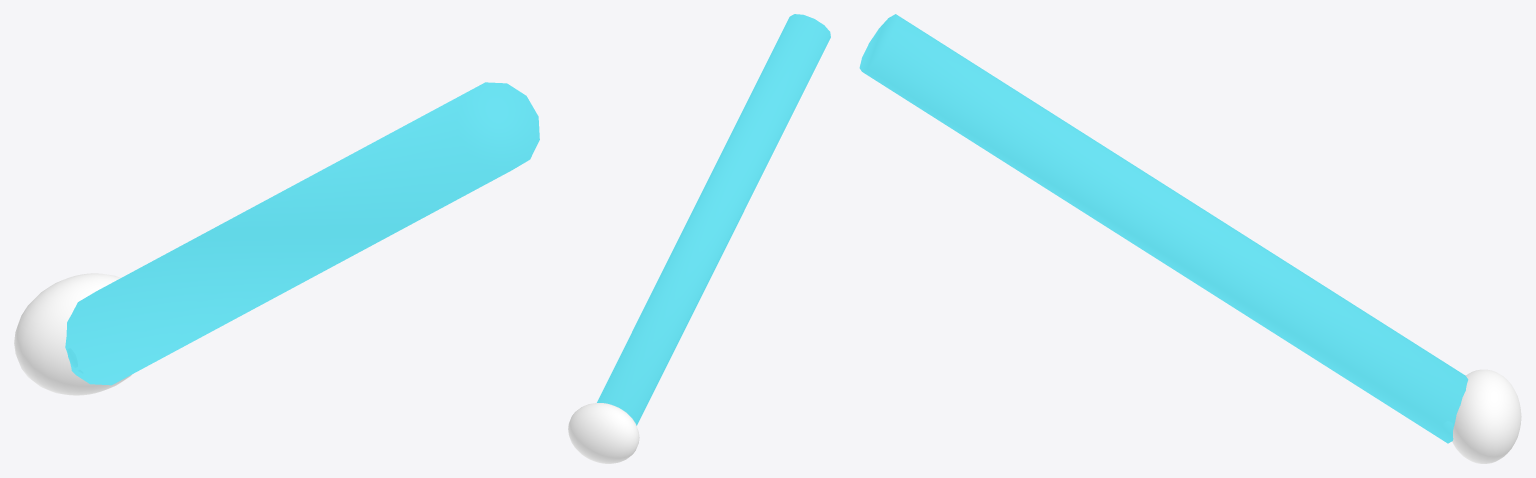
Rendered from trait-head-blue-laser.glb.
The picture shows the model from 3 angles, left to right: view 1: azimuth 30°, elevation 25°; view 2: azimuth 150°, elevation 25°; view 3: azimuth 270°, elevation 25°; orthographic projection. The views are drawn at different scales.
Visible parts, largest first — view 1: trait_hat_beam, trait_hat_emitter; view 2: trait_hat_beam, trait_hat_emitter; view 3: trait_hat_beam, trait_hat_emitter.
Part boxes in pixels (box(x1,y1,x2,y2)): trait_hat_beam: box(65, 82, 539, 385); trait_hat_emitter: box(14, 273, 131, 395); trait_hat_beam: box(597, 14, 830, 425); trait_hat_emitter: box(568, 403, 639, 463); trait_hat_beam: box(859, 14, 1468, 443); trait_hat_emitter: box(1452, 369, 1521, 463).
Size of the model in its own units: 0.1489 by 0.6447 by 0.8794.
